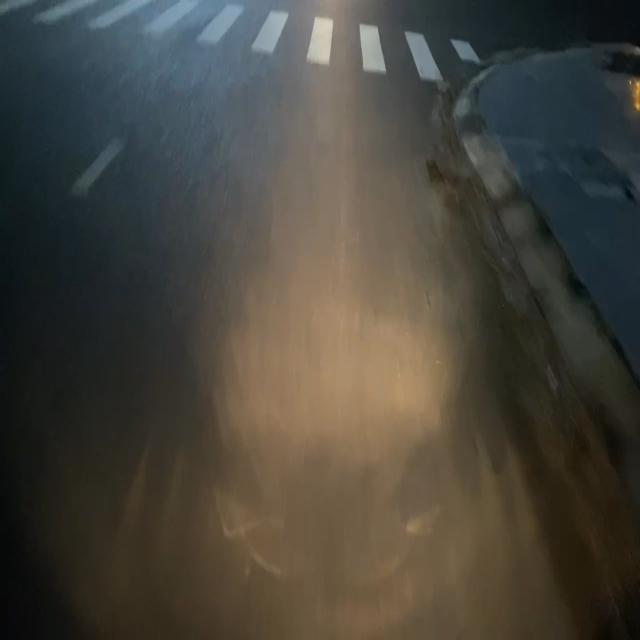walk-crossing: (2, 0, 488, 82)
